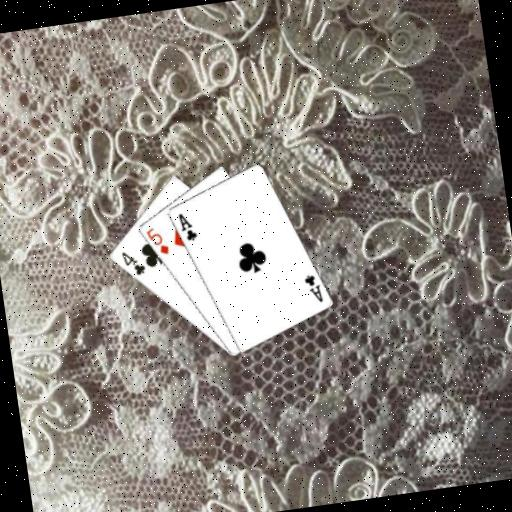4C: (118, 246, 147, 279)
5D: (142, 223, 171, 259)
AC: (174, 208, 199, 244), (300, 270, 324, 306)
